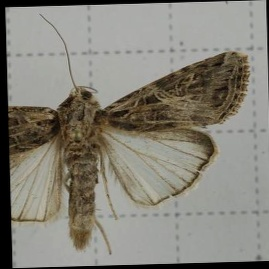Spodoptera litura: (9, 9, 252, 255)
